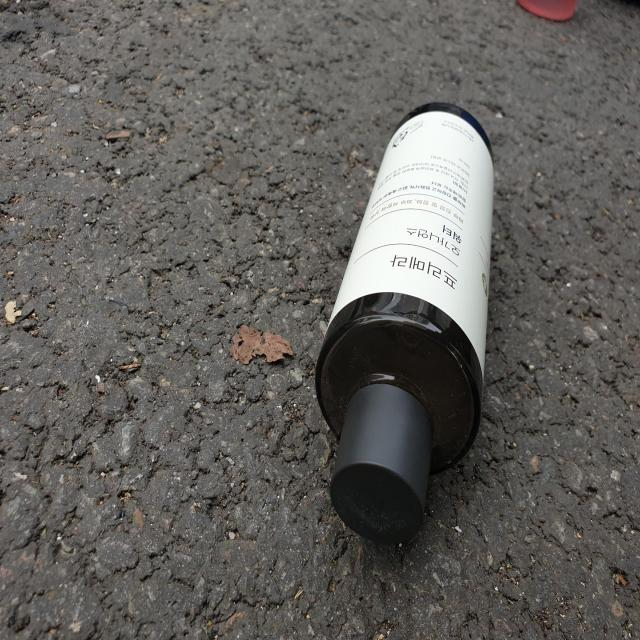glass: (316, 102, 494, 544)
